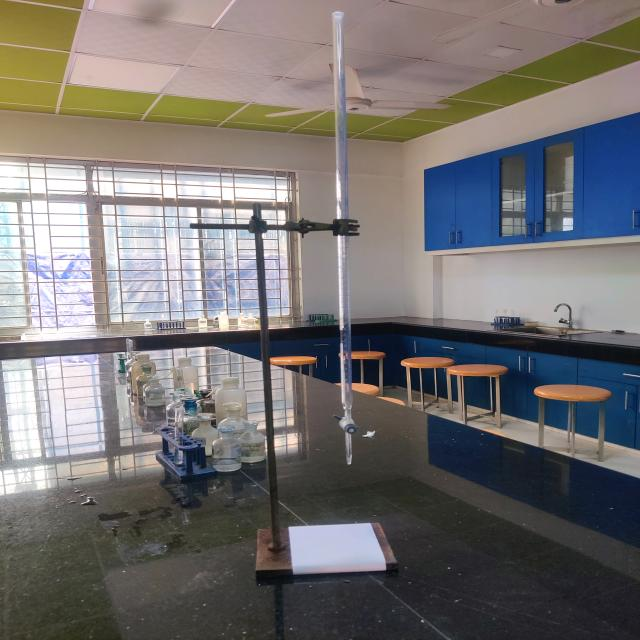Burette_Stands: (172, 201, 402, 585)
